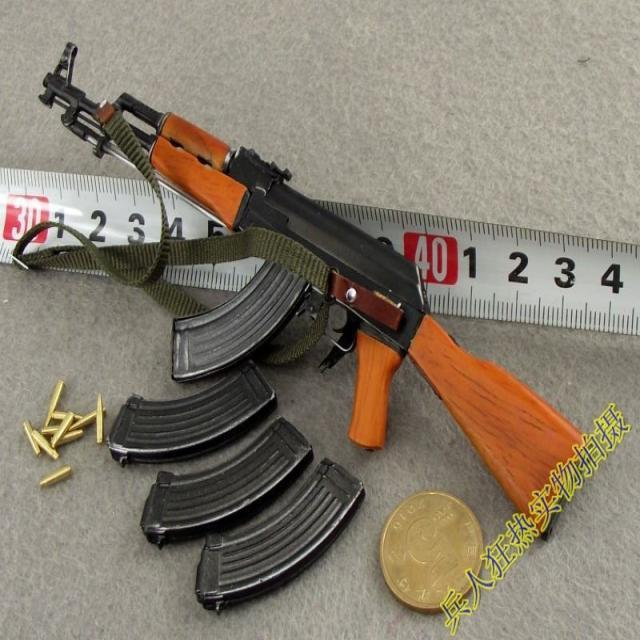ak: (40, 39, 584, 548)
